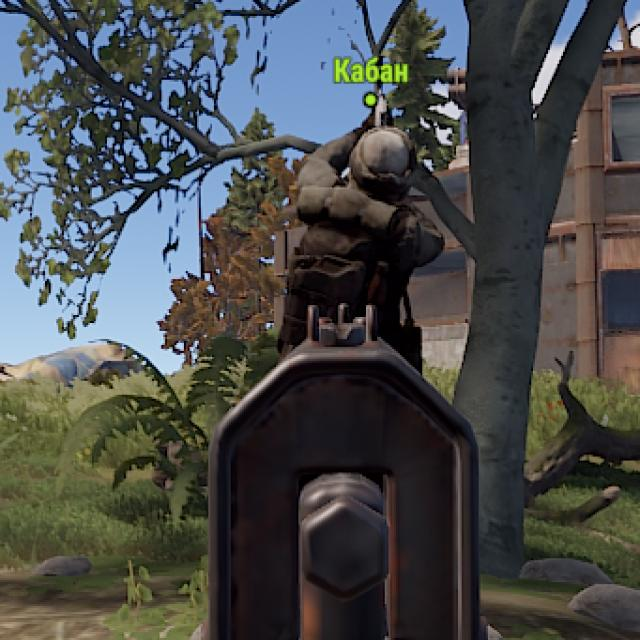Player: (288, 124, 432, 306)
